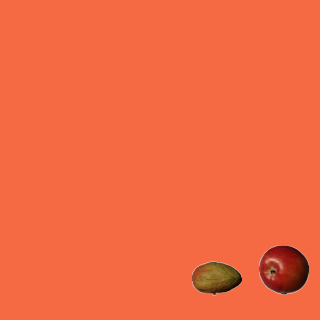Apple Braeburn: (258, 244, 308, 294)
Papaya: (191, 253, 241, 303)
